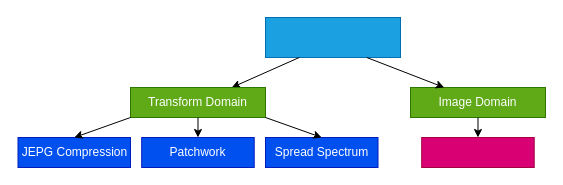
Image size: 563x185. Some labels were removed from this diagram. Here are the shapes that lost their labels. From the top down, the centre of each, then its label:
At point 332,37: "Image Steganography".
At point 477,152: "LSB Manupulation".
